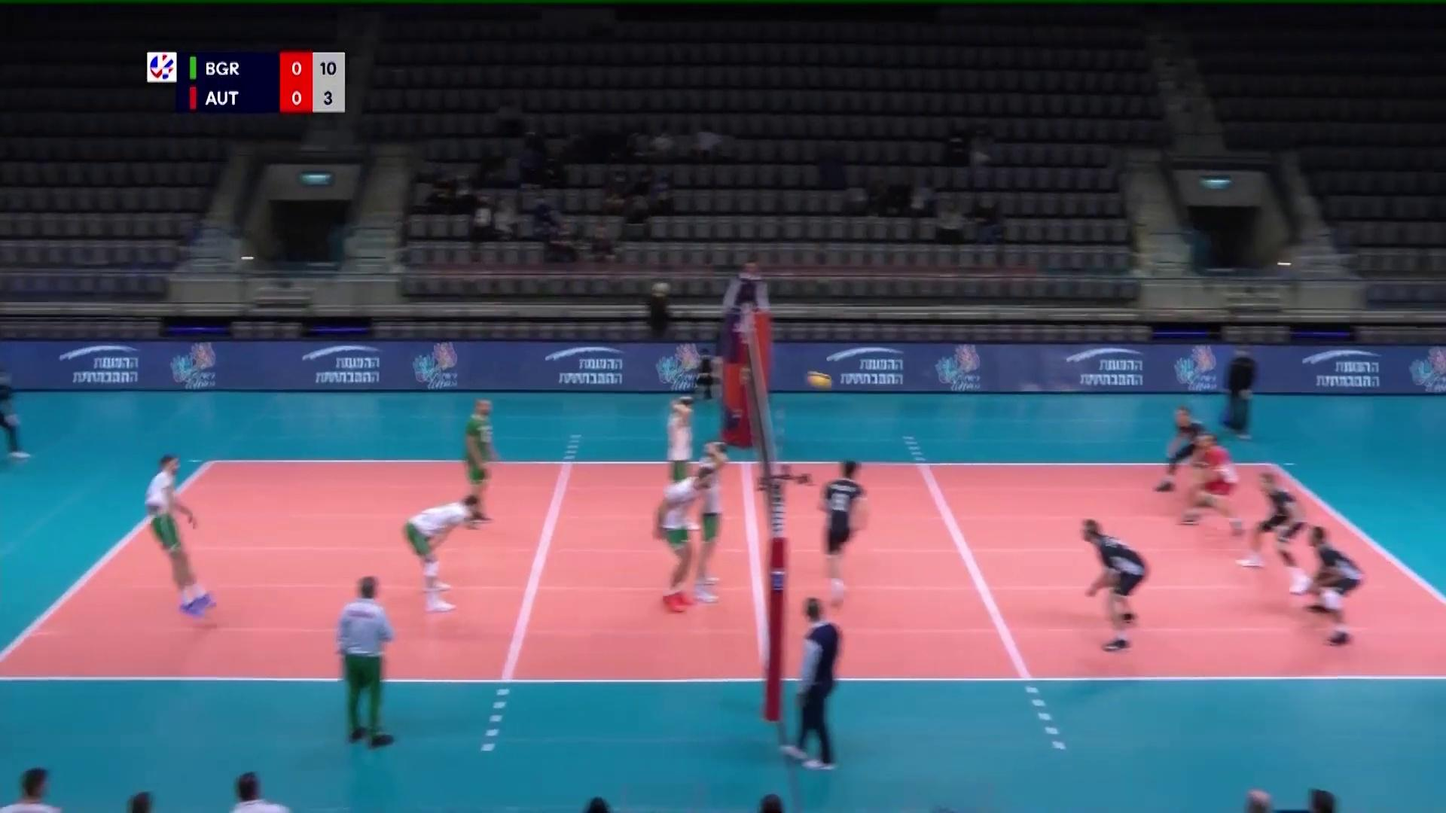ball: (805, 371, 832, 389)
